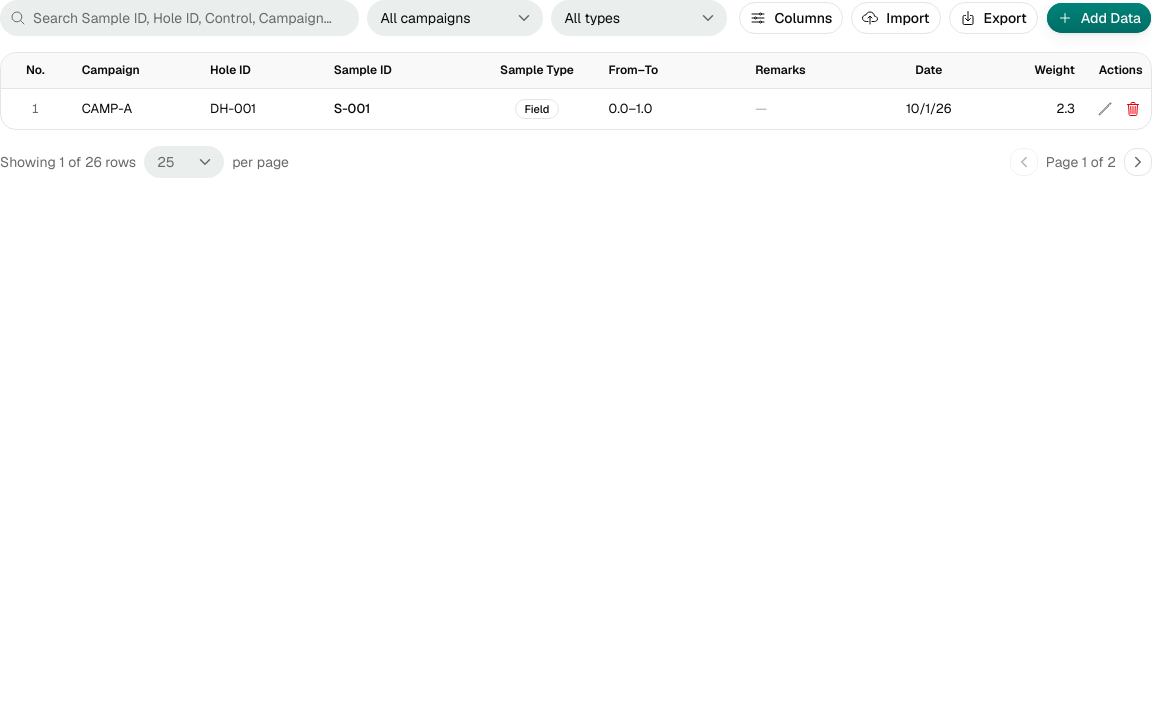
Test: a sample's detail › opens from the row with every field and all sixteen assay results
The width and height of the screenshot is (1152, 720).
Expected: the text "S-001" is shown, 334,100 -> 370,117
Click the row "1 CAMP-A DH-001 S-001 Field 0.0–1.0 — 10/1/26 2.3": (107,109) 1,88 -> 1151,129
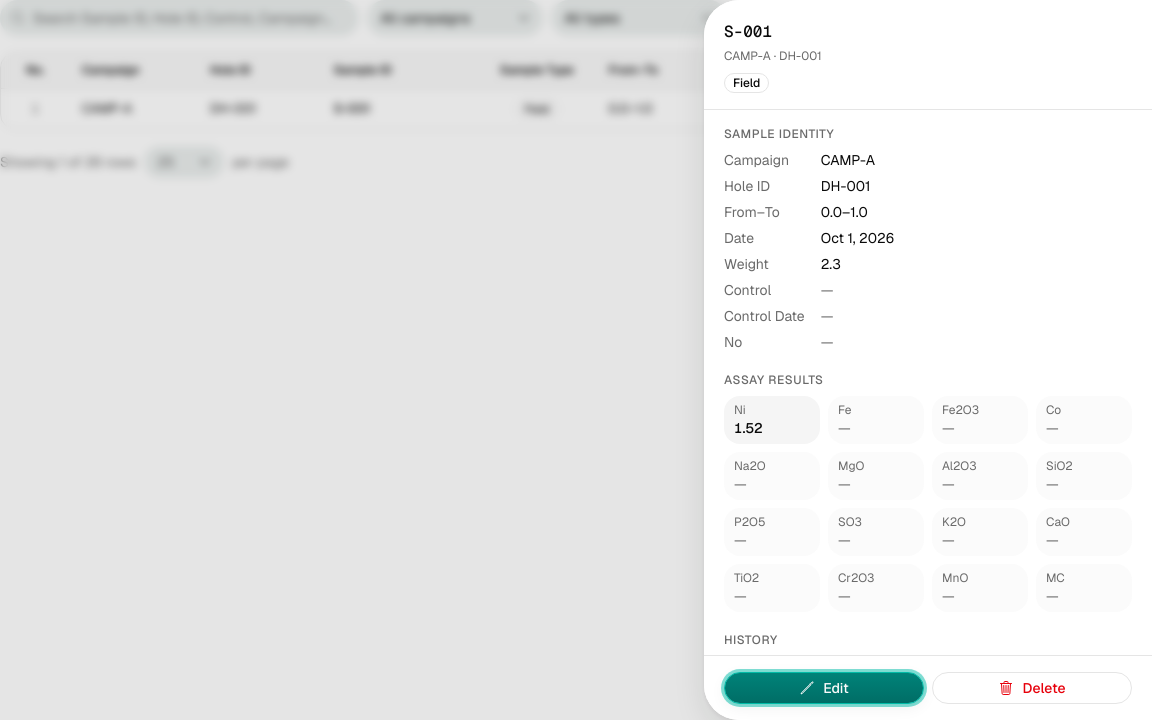
Now the dialog "S-001" shows "Assay results", box 724,372 -> 824,388
Now the dialog "S-001" shows "DH-001", box 821,177 -> 870,195
Now the dialog "S-001" shows "1.52", box 734,419 -> 763,437
